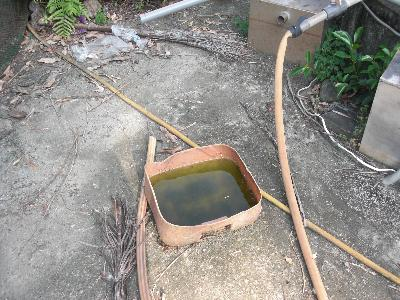box: (143, 144, 264, 246)
